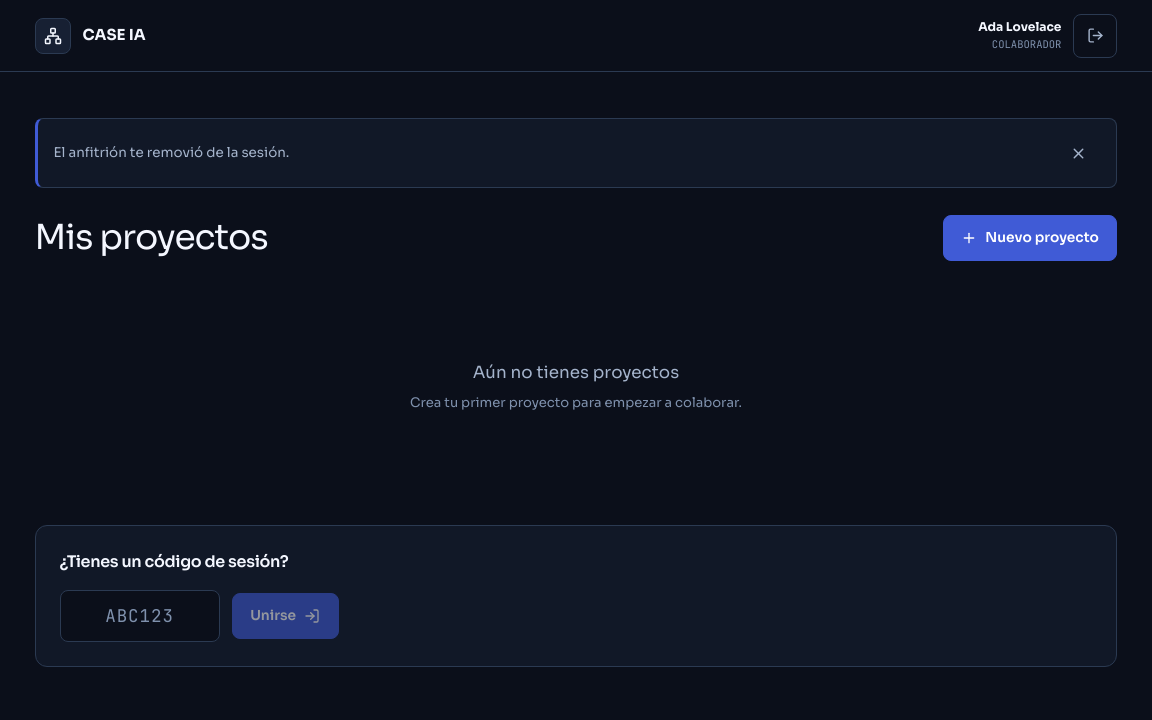
Scenario: DashboardPage › explica por qué el colaborador regresó al dashboard y permite descartar el aviso
Expected: the message reads "El anfitrión te removió de la sesión.", left=54, top=144, right=289, bottom=161
Click the button named "Cerrar aviso". click: (1078, 153)
box: left=1056, top=131, right=1100, bottom=175
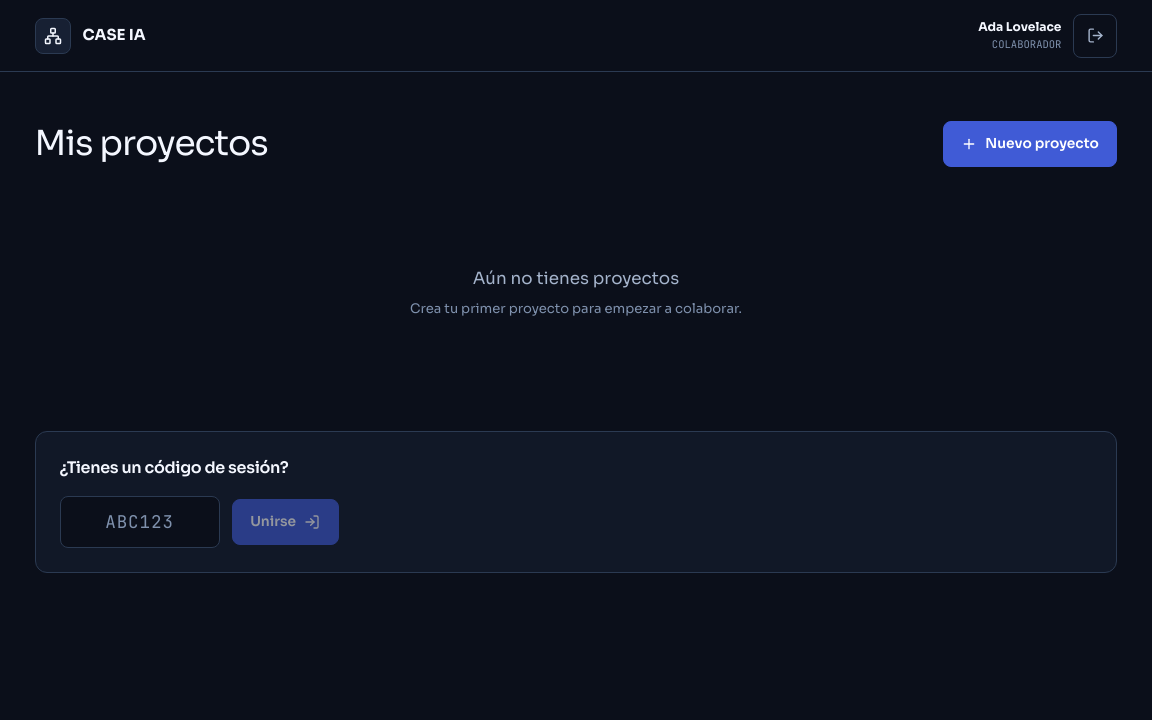
Expected: the message "El anfitrión te removió de la sesión." is gone
